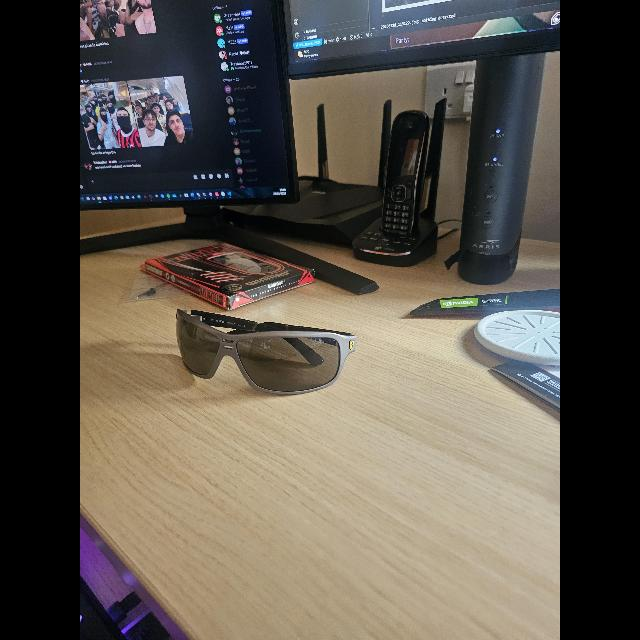Sunglasses: (176, 310, 356, 394)
